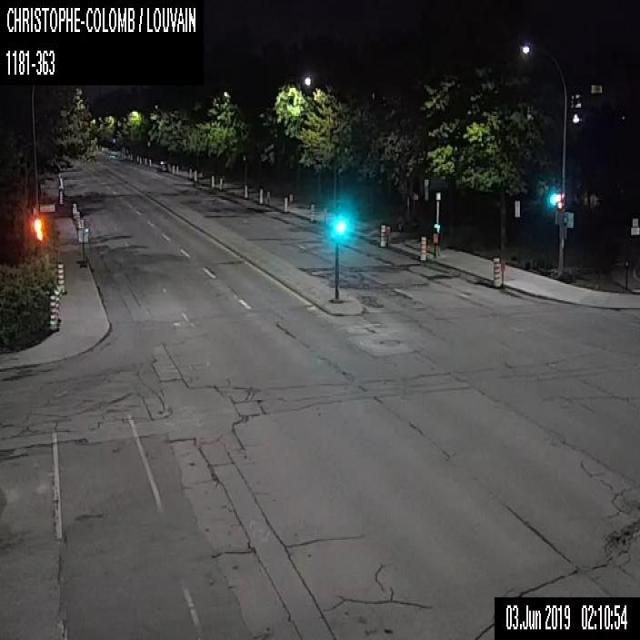construction: (77, 227, 88, 266), (48, 294, 58, 331), (57, 261, 66, 293), (53, 288, 60, 326), (492, 256, 500, 287), (55, 284, 61, 321), (378, 222, 386, 246), (419, 236, 426, 261), (58, 189, 64, 205), (500, 258, 504, 280), (310, 204, 314, 222), (72, 202, 76, 220), (76, 210, 80, 227), (283, 196, 287, 212), (258, 188, 262, 203), (386, 224, 389, 244), (188, 168, 192, 178), (244, 184, 247, 197), (211, 174, 214, 187), (219, 178, 222, 190), (80, 218, 84, 227), (175, 164, 178, 173), (148, 157, 151, 166), (136, 154, 139, 162), (194, 170, 196, 180), (172, 163, 174, 173), (144, 156, 146, 164), (139, 155, 141, 163)
vehicle: (159, 160, 167, 170)
